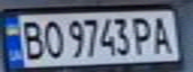3: (112, 15, 133, 56)
4: (97, 15, 118, 57)
7: (81, 16, 100, 57)
9: (63, 16, 84, 58)
A: (148, 13, 175, 55)
B: (18, 17, 48, 61)
O: (39, 17, 66, 60)
P: (130, 14, 157, 56)
